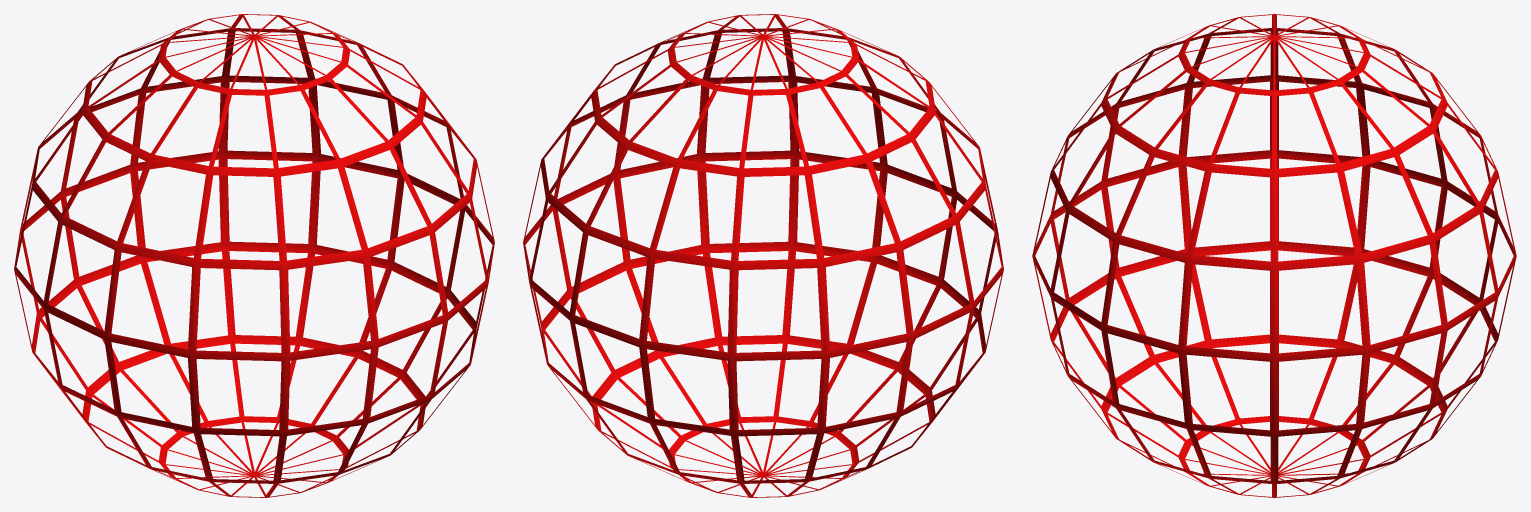
File: border.fbx
3 renders of one model, left to right at view 1: azimuth 30°, elevation 25°; view 2: azimuth 150°, elevation 25°; view 3: azimuth 270°, elevation 25°, orthographic.
Parts seen in each view (by area): view 1: Sphere; view 2: Sphere; view 3: Sphere.
Part boxes in pixels (box(x1,y1,x2,y2)): Sphere: box(14, 14, 494, 497); Sphere: box(523, 14, 1003, 497); Sphere: box(1032, 14, 1516, 497).
Size of the model in its own units: 2 by 2 by 2.
